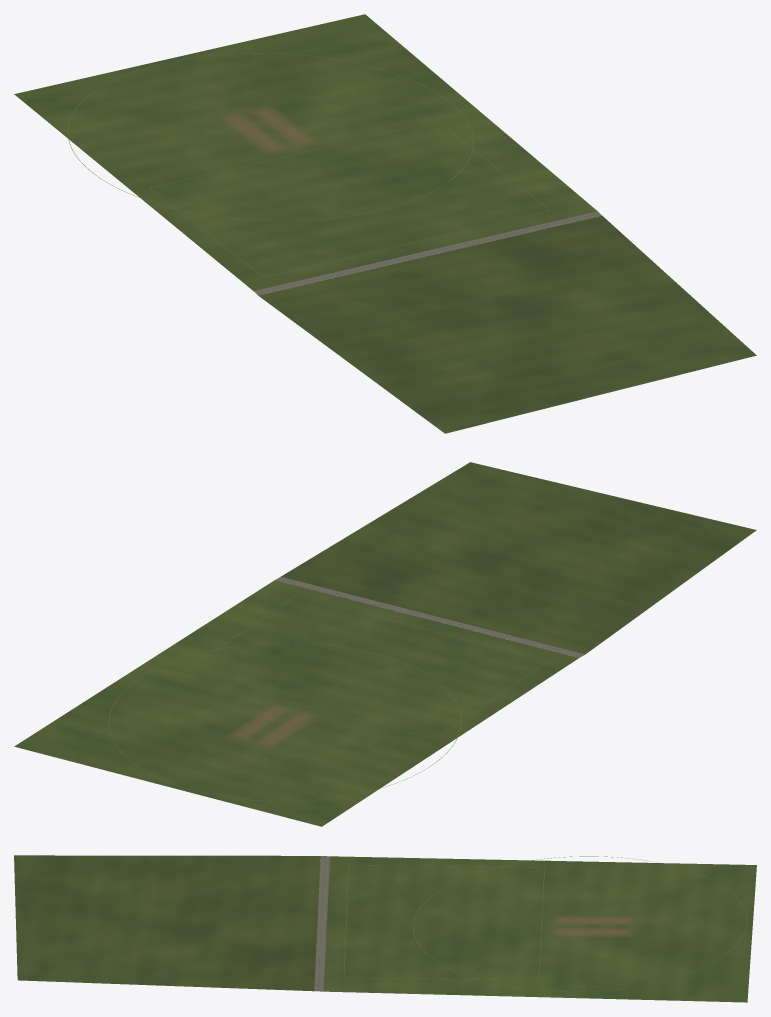
3 views of the same model, one above another, from view 1: azimuth 30°, elevation 25°; view 2: azimuth 150°, elevation 25°; view 3: azimuth 270°, elevation 25° (orthographic). The views are drawn at different scales.
Size of the model in its own units: 127 by 0.1906 by 272.
Materials: 2 (2 with a texture image).
